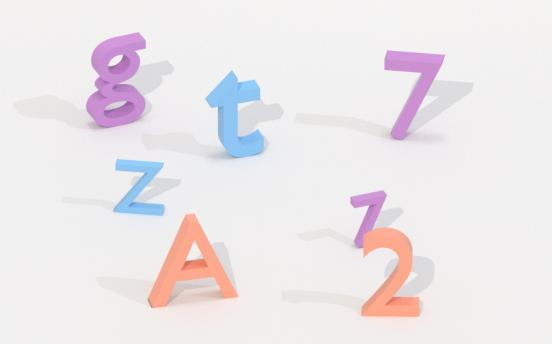2: (357, 229, 423, 321)
7: (377, 48, 452, 144), (345, 188, 391, 248)
A-hoa: (144, 211, 242, 308)
g: (85, 33, 152, 131)
t: (201, 70, 278, 163)
z: (109, 155, 168, 217)
